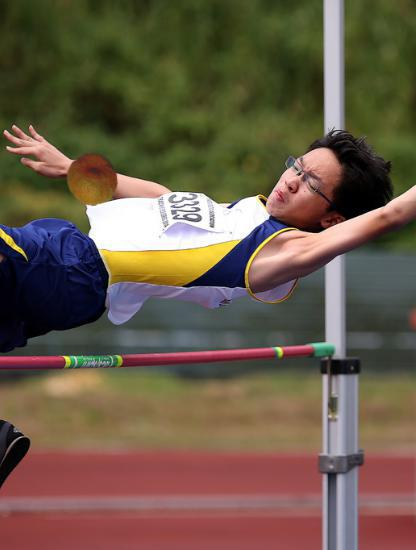Mandarine: (66, 153, 119, 206)
